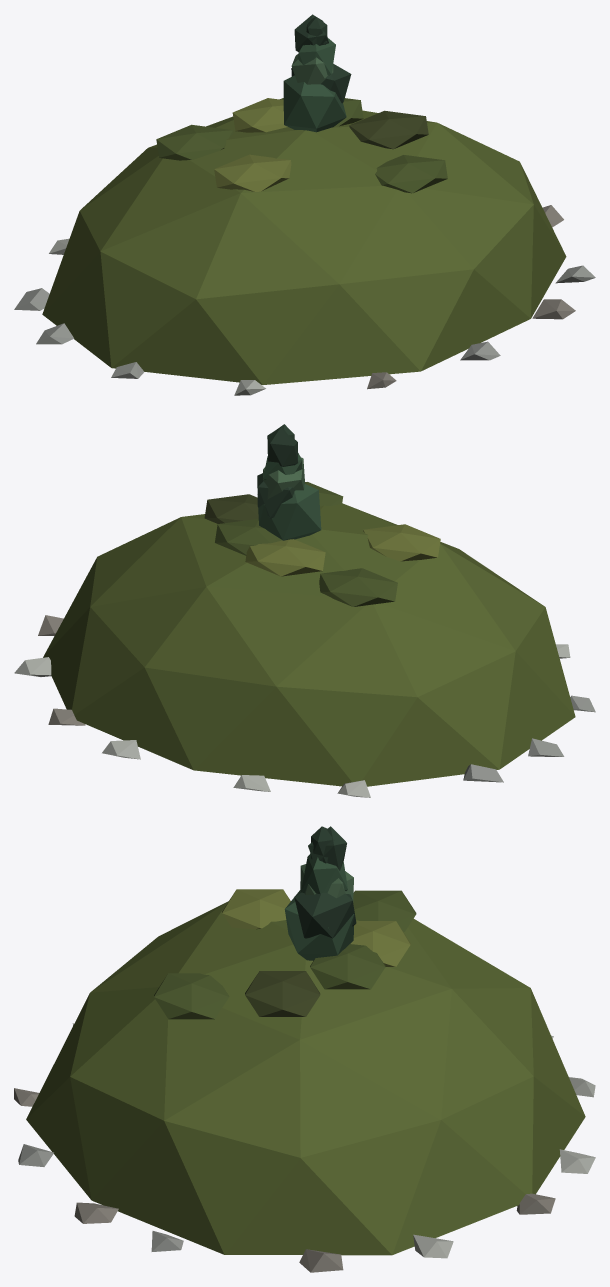
The model's file is forest_mound.glb.
The picture shows the model from 3 angles, top to bottom: view 1: azimuth 30°, elevation 25°; view 2: azimuth 150°, elevation 25°; view 3: azimuth 270°, elevation 25°; orthographic projection. The views are drawn at different scales.
Parts seen in each view (by area): view 1: forest_mound; view 2: forest_mound; view 3: forest_mound.
Part boxes in pixels (x1,y1,x2,y2): forest_mound: (14, 14, 595, 395); forest_mound: (14, 424, 595, 797); forest_mound: (14, 826, 595, 1272).
Size of the model in its own units: 8.84 by 4.21 by 7.21.
